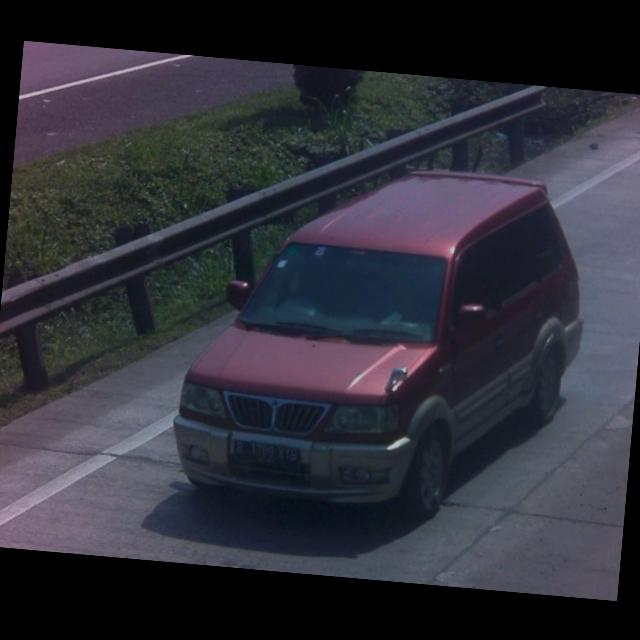plate: (230, 434, 302, 468)
